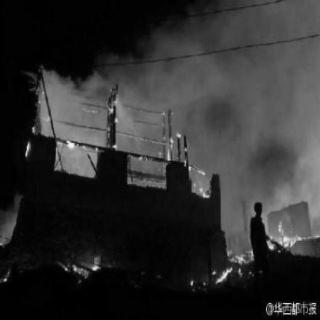Smoke: (187, 95, 295, 193)
